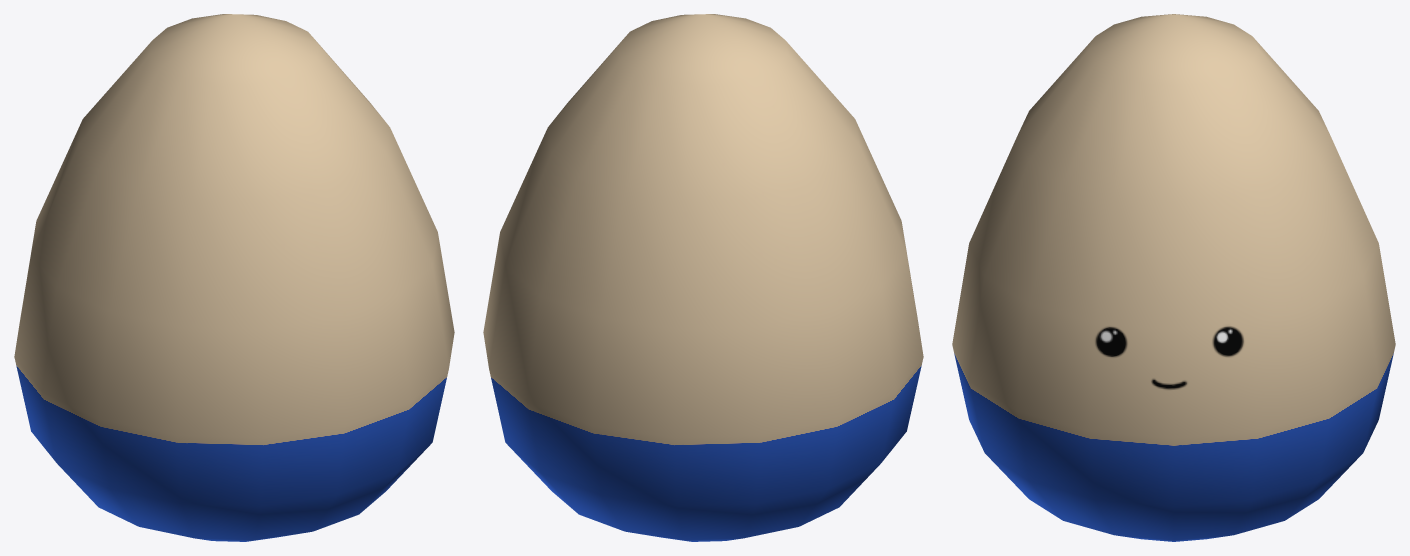
The model's file is worker.glb.
3 views of the same model, side by side, from view 1: azimuth 30°, elevation 25°; view 2: azimuth 150°, elevation 25°; view 3: azimuth 270°, elevation 25° (orthographic).
Parts seen in each view (by area): view 1: Worker; view 2: Worker; view 3: Worker.
Boxes of the visible parts, x1=… form: Worker: x1=14, y1=14, x2=454, y2=541; Worker: x1=483, y1=14, x2=923, y2=541; Worker: x1=952, y1=14, x2=1395, y2=541.
Size of the model in its own units: 1 by 1.25 by 1.
1 material, 1 textured.
